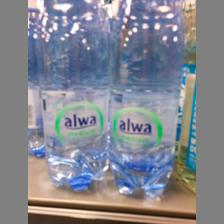Wasser: (108, 0, 184, 196), (35, 0, 111, 192)
